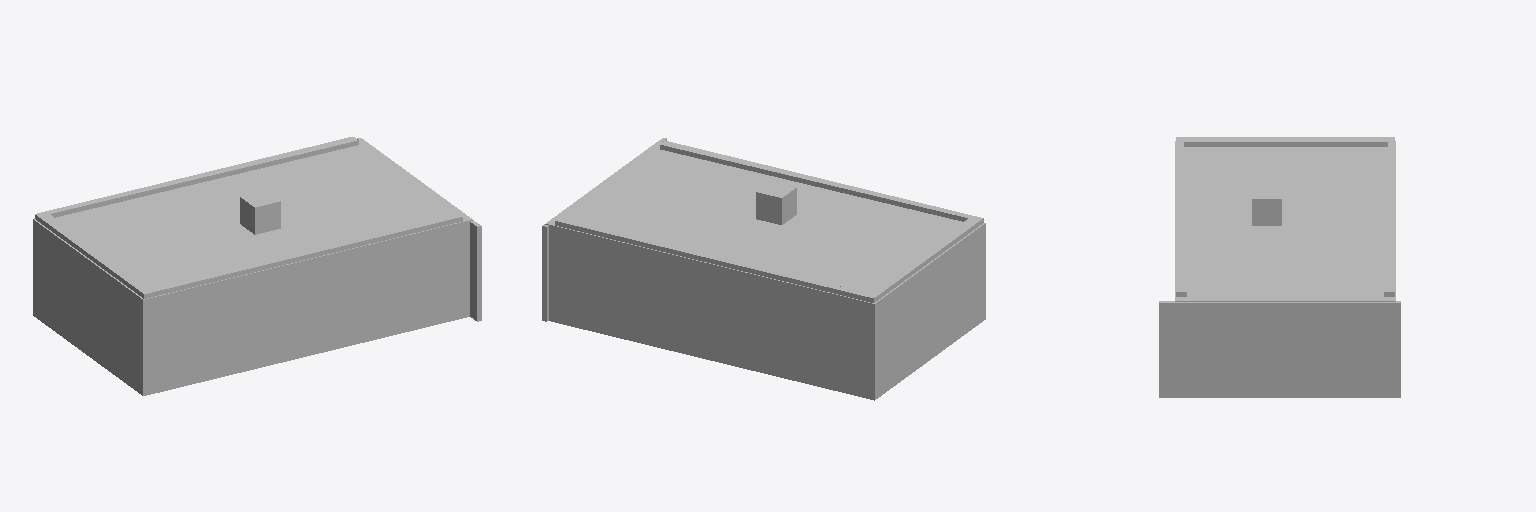
The model's file is kaede_room.obj.
The picture shows the model from 3 angles: view 1: azimuth 30°, elevation 25°; view 2: azimuth 150°, elevation 25°; view 3: azimuth 270°, elevation 25°; orthographic projection.
Visible parts, largest first — view 1: Cube, Cube.006, Cube.002, Cube.001, Cube.004, Cube.005; view 2: Cube, Cube.006, Cube.002, Cube.001, Cube.004, Cube.005; view 3: Cube.006, Cube.005, Cube.002, Cube.004.
Boxes of the visible parts, box(x1,y1,x2,y2) form: Cube: box(33, 224, 469, 391); Cube.006: box(33, 139, 472, 303); Cube.002: box(35, 137, 462, 298); Cube.001: box(33, 311, 469, 395); Cube.004: box(240, 190, 280, 234); Cube.005: box(357, 138, 481, 321); Cube: box(549, 228, 985, 395); Cube.006: box(545, 143, 985, 307); Cube.002: box(555, 141, 983, 302); Cube.001: box(549, 315, 985, 400); Cube.004: box(756, 181, 796, 224); Cube.005: box(542, 138, 666, 321); Cube.006: box(1175, 141, 1395, 301); Cube.005: box(1159, 301, 1400, 397); Cube.002: box(1176, 137, 1394, 296); Cube.004: box(1252, 186, 1281, 225).
Size of the model in its own units: 158 by 56.82 by 100.